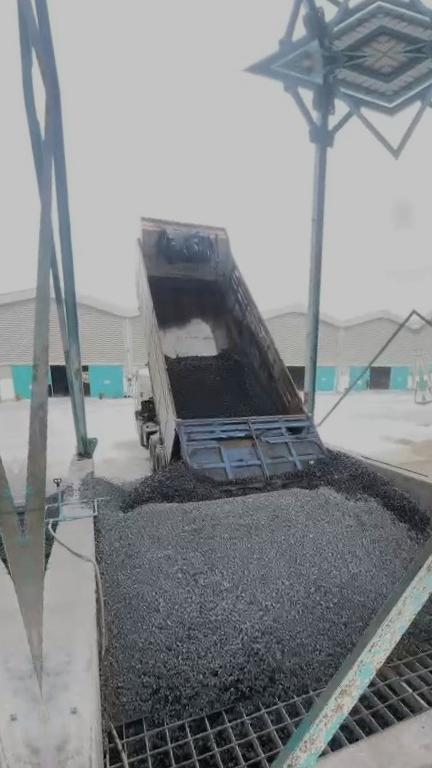gravel: (79, 442, 432, 721), (166, 349, 287, 418), (409, 582, 432, 641)
sand: (394, 438, 432, 476)
